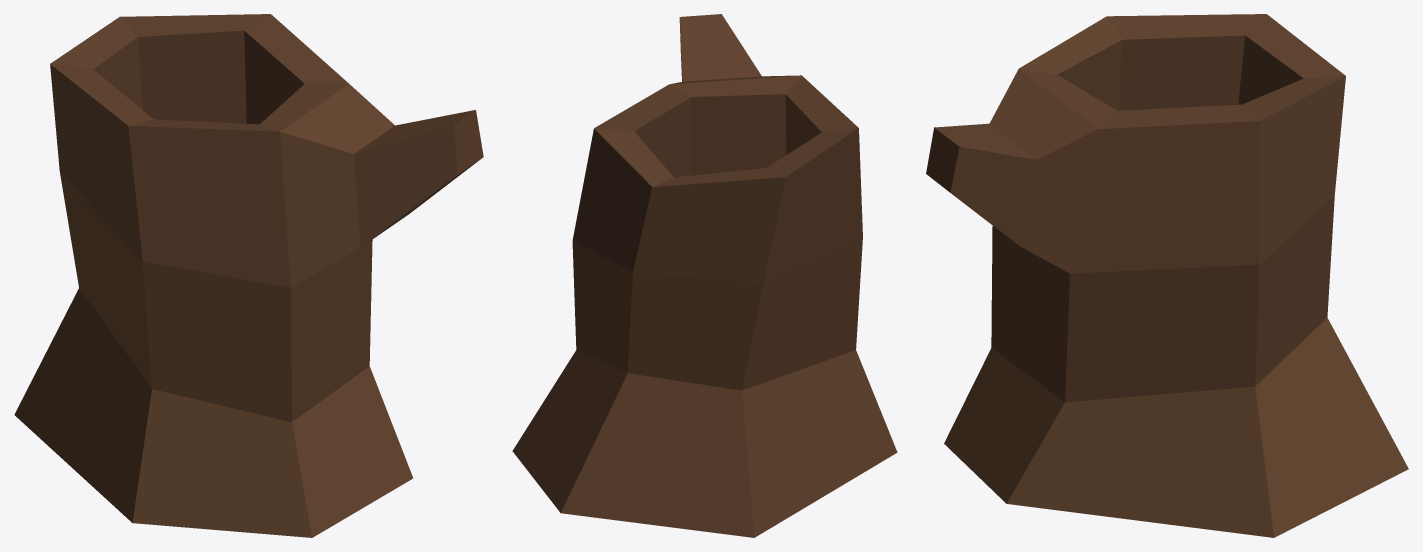
Rendered from TreeStump_2.fbx.
3 renders of one model, left to right at view 1: azimuth 30°, elevation 25°; view 2: azimuth 150°, elevation 25°; view 3: azimuth 270°, elevation 25°, orthographic. The views are drawn at different scales.
Parts seen in each view (by area): view 1: TreeStump_2; view 2: TreeStump_2; view 3: TreeStump_2.
Boxes of the visible parts, box(x1,y1,x2,y2) form: TreeStump_2: box(14, 14, 483, 537); TreeStump_2: box(512, 14, 897, 537); TreeStump_2: box(926, 14, 1408, 537).
Bounding box in the file's own units: 138 × 156 × 179.
